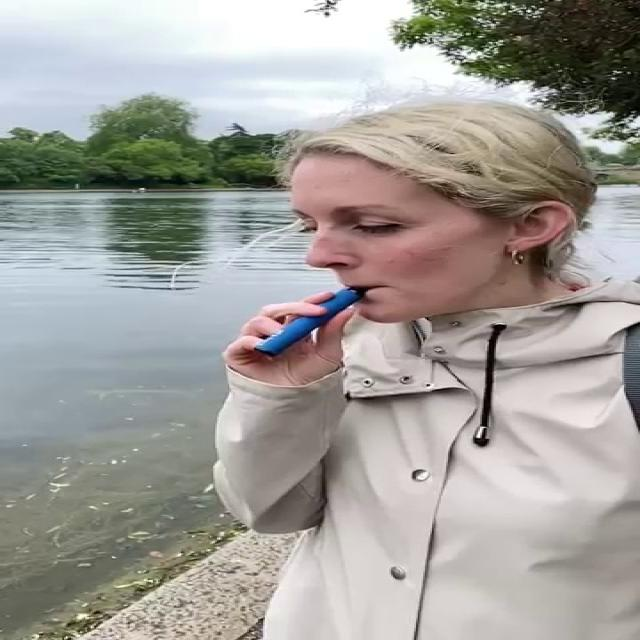Cigarette: (253, 288, 366, 358)
Hand: (222, 291, 358, 386)
Mouth: (343, 280, 400, 297)
